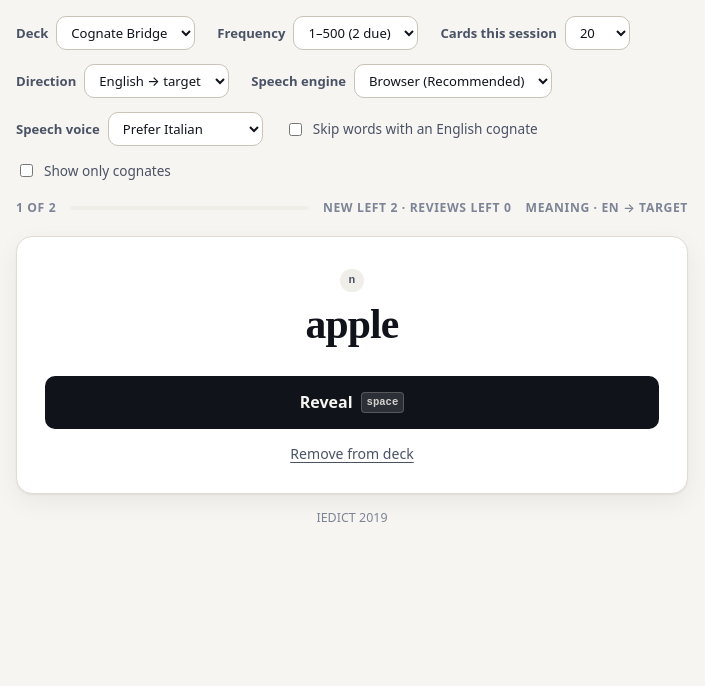
Test: StudyPage › records Good and advances to the next card
Click the button "Reveal space" at (352, 403), box [45, 376, 659, 429]
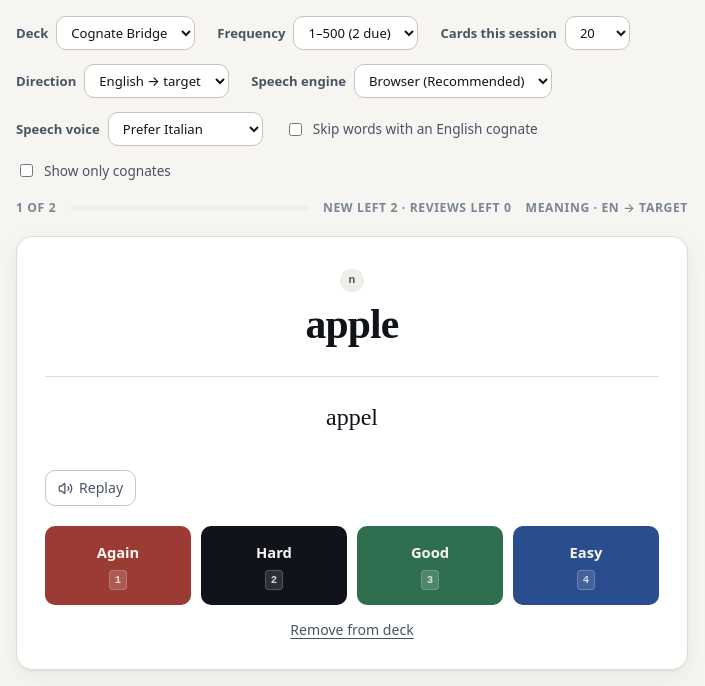
Click the button "Good 3" at (430, 566), box [357, 526, 503, 605]
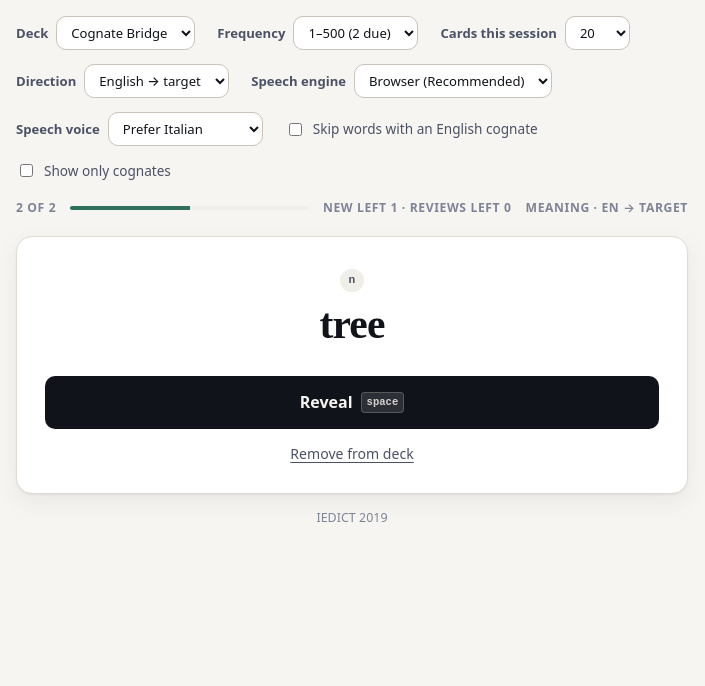
Result: the heading "tree" is shown at [319, 300, 385, 350]
Result: the text "2 of 2" is shown at [16, 199, 56, 218]
